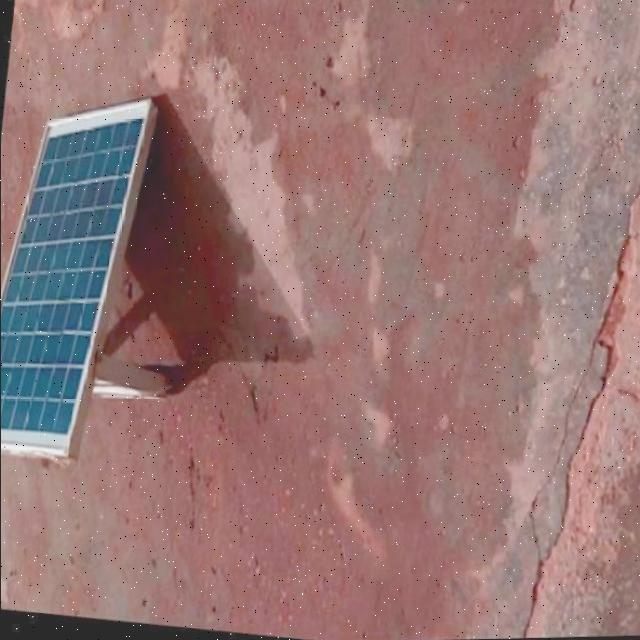Normal Solar Panel: (0, 85, 164, 470)
